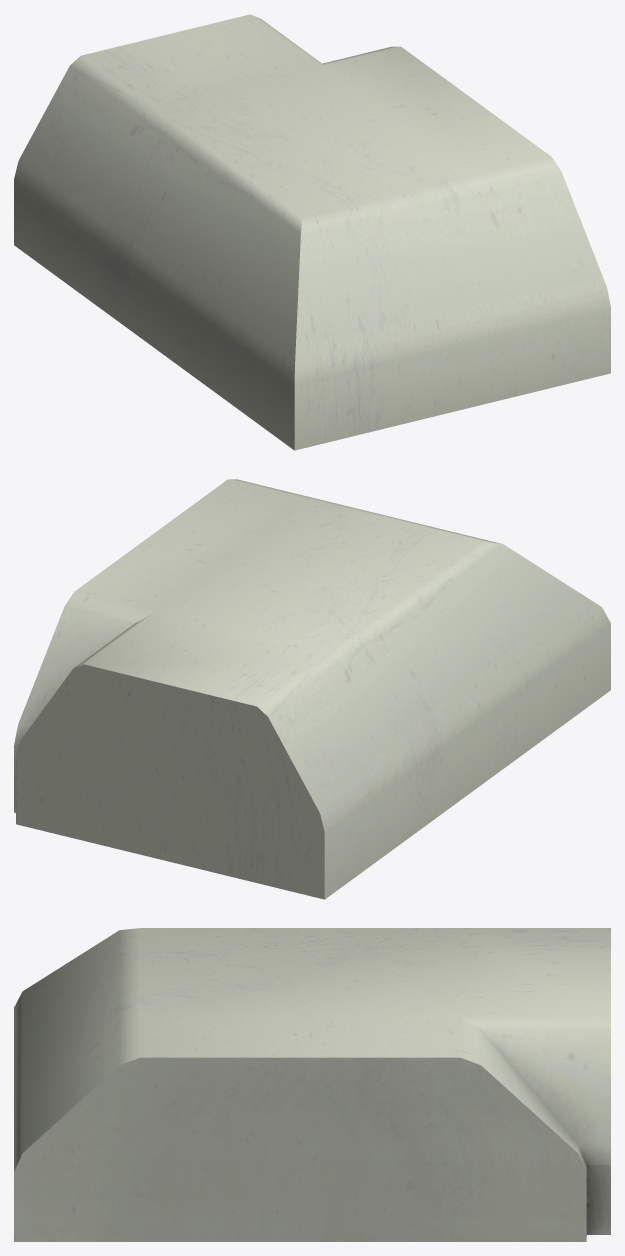
File: Orning_Corner_Short.fbx
3 renders of one model, top to bottom at view 1: azimuth 30°, elevation 25°; view 2: azimuth 150°, elevation 25°; view 3: azimuth 270°, elevation 25°, orthographic. The views are drawn at different scales.
Visible parts, largest first — view 1: m_city_orning_straight.020; view 2: m_city_orning_straight.020; view 3: m_city_orning_straight.020.
Boxes of the visible parts, x1,y1,x2,y2 form: m_city_orning_straight.020: [14, 14, 610, 450]; m_city_orning_straight.020: [14, 479, 610, 899]; m_city_orning_straight.020: [14, 928, 610, 1241].
Bounding box in the file's own units: 44.69 × 23.38 × 68.65.
